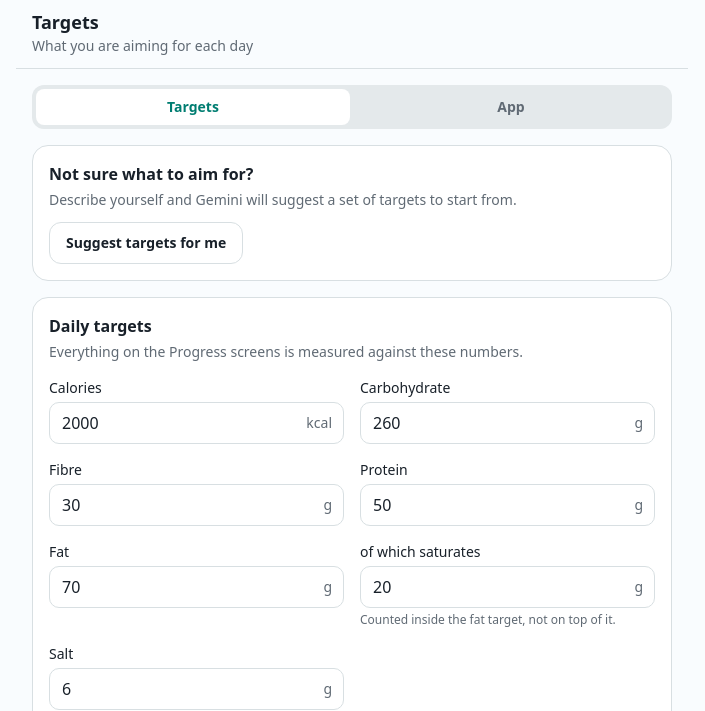
suggesting targets › says where to get a key instead of failing silently
This screenshot has width=705, height=711.
Click the button "Suggest targets for me". click: (146, 243)
box: top-left (49, 222), bottom-right (243, 264)
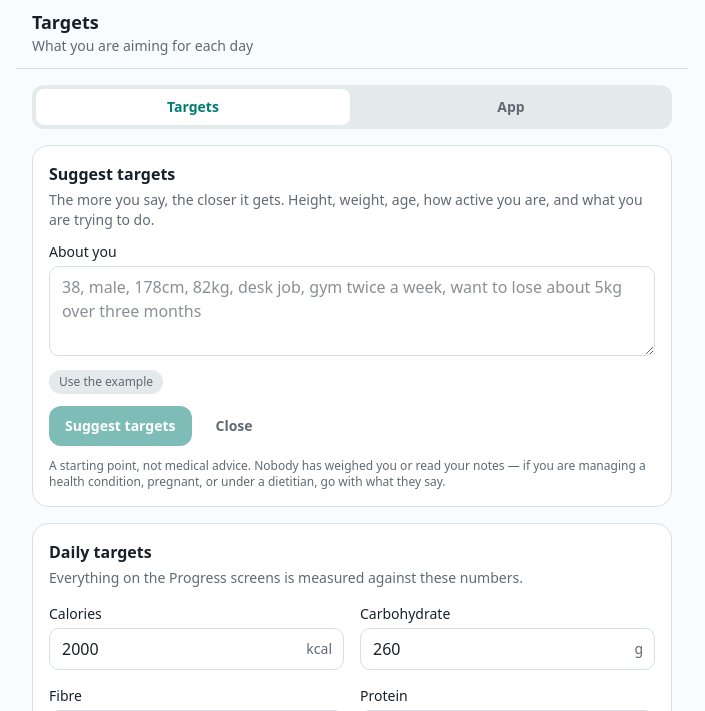
Type "anything" into the text box labelled "About you". click: (352, 311)
box: top-left (49, 266), bottom-right (655, 356)
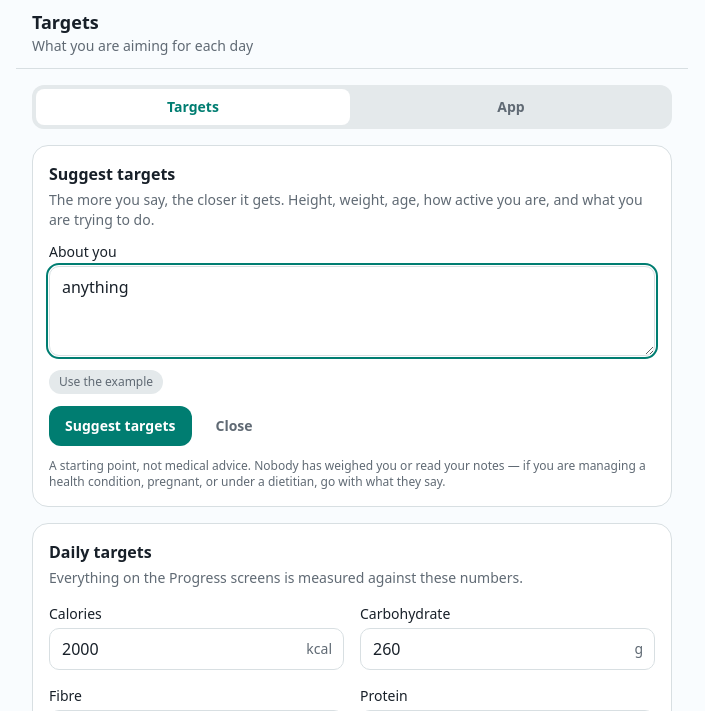
Click the button "Suggest targets". click: (120, 426)
box: top-left (49, 406), bottom-right (192, 446)
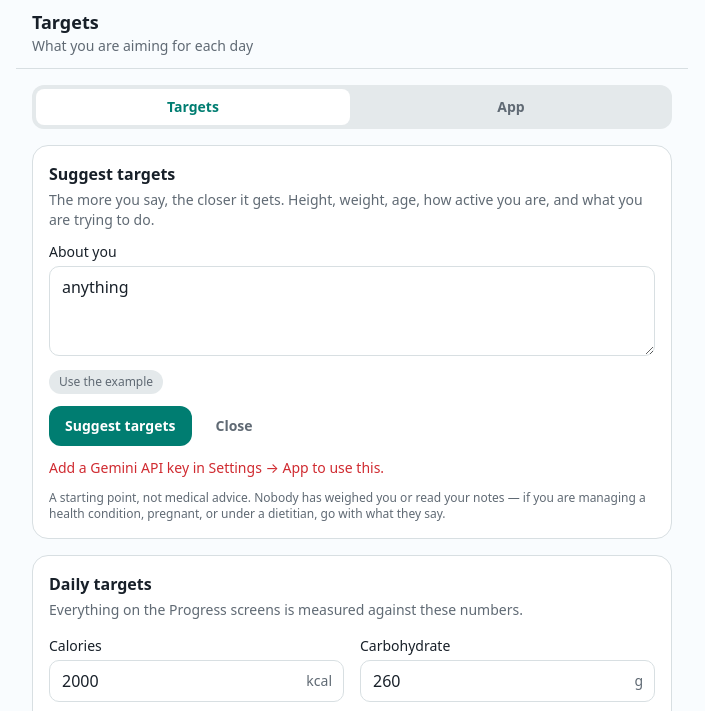
Expected: the text "Add a Gemini API key in Settings → App to use this." is shown, top-left (49, 458), bottom-right (384, 477)
